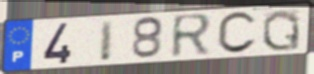4: (41, 21, 74, 66)
8: (129, 15, 166, 62)
C: (215, 10, 259, 56)
I: (98, 19, 116, 64)
Q: (261, 8, 302, 53)
R: (170, 12, 216, 61)
